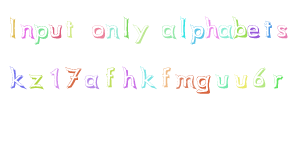1: (48, 67, 63, 89)
6: (252, 66, 266, 87)
7: (65, 66, 81, 88)
I: (6, 13, 24, 39)
a: (84, 73, 100, 90), (217, 23, 233, 39), (160, 23, 177, 38)
b: (231, 14, 247, 40)
e: (246, 22, 261, 39)
f: (159, 66, 173, 88), (103, 66, 117, 87)
g: (195, 73, 211, 95)
h: (121, 65, 137, 89), (205, 14, 219, 39)
k: (9, 65, 26, 90), (140, 66, 156, 89)
l: (120, 15, 130, 39), (179, 15, 187, 40)
m: (174, 73, 196, 89)
n: (19, 23, 35, 38), (105, 24, 119, 39)
o: (90, 24, 105, 40)
p: (189, 23, 204, 46), (34, 24, 48, 45)
r: (272, 72, 283, 89)
s: (276, 23, 288, 38)
t: (62, 17, 73, 39), (262, 19, 274, 39)
u: (48, 23, 64, 40), (215, 74, 230, 88), (234, 74, 248, 87)
y: (132, 23, 151, 45)
z: (28, 72, 45, 89)
